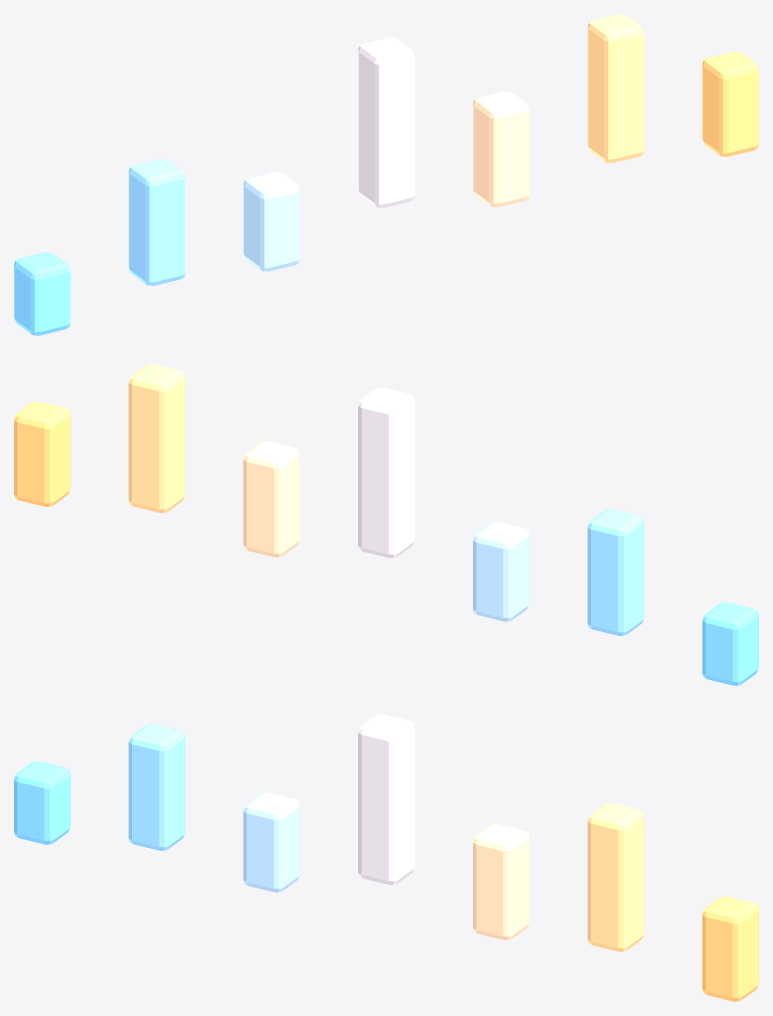
File: bi-chart.glb
The picture shows the model from 3 angles, top to bottom: view 1: azimuth 30°, elevation 25°; view 2: azimuth 150°, elevation 25°; view 3: azimuth 330°, elevation 25°; orthographic projection.
Visible parts, largest first — view 1: BIChart; view 2: BIChart; view 3: BIChart.
Part boxes in pixels (x1,y1,x2,y2): BIChart: [14, 14, 758, 335]; BIChart: [14, 364, 758, 685]; BIChart: [14, 714, 758, 1001].
Size of the model in its own units: 3.49 by 0.9 by 0.19.
